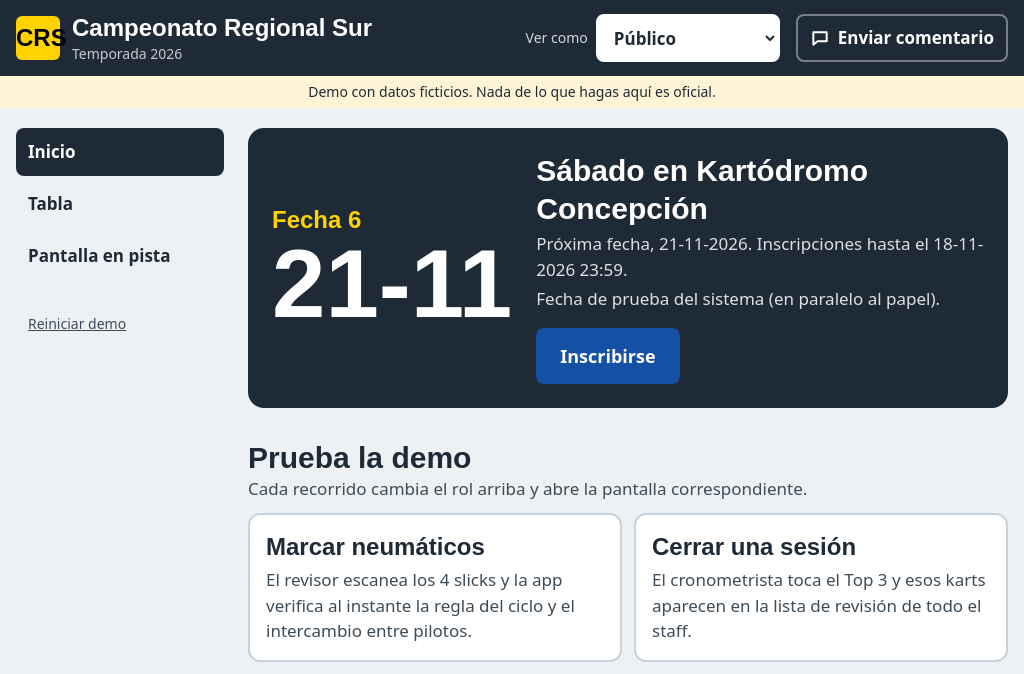
Scenario: acciones ocultas a roles sin el permiso (QA, SPEC 4.2 y 11.1) › I-10: el director de carrera (event.view_all) ve la lista de revisión pero no puede resolver ni agregar karts
Select "Admin" in the dropdown labelled "Ver como" at (688, 38), box [596,14,780,62]
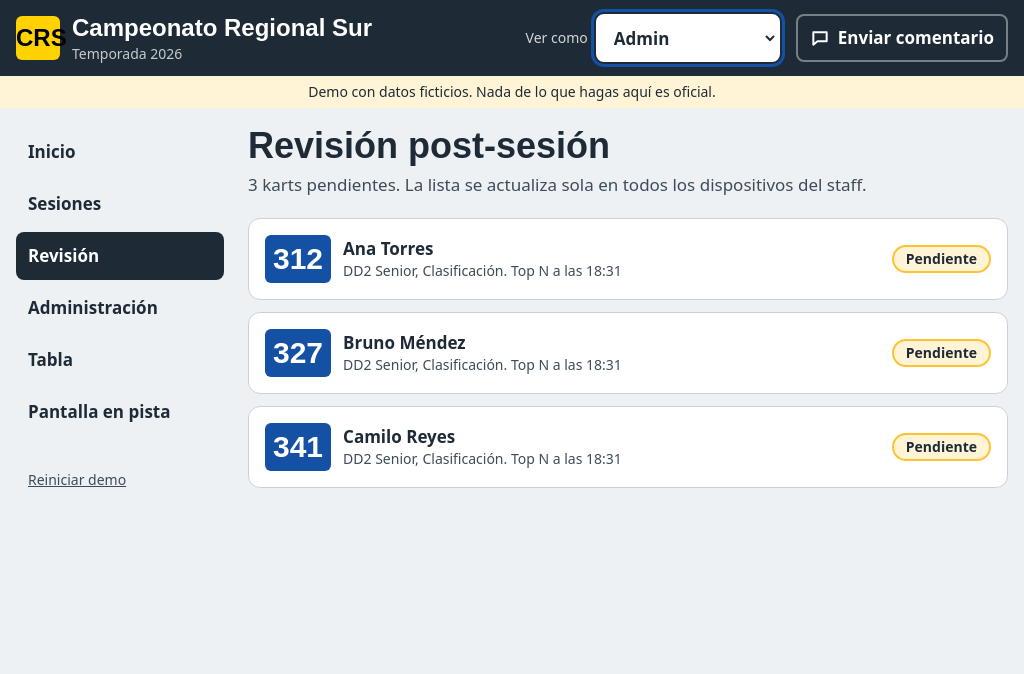
Expected: the list item with test id "inspection-312" is shown, [248,218,1008,300]
